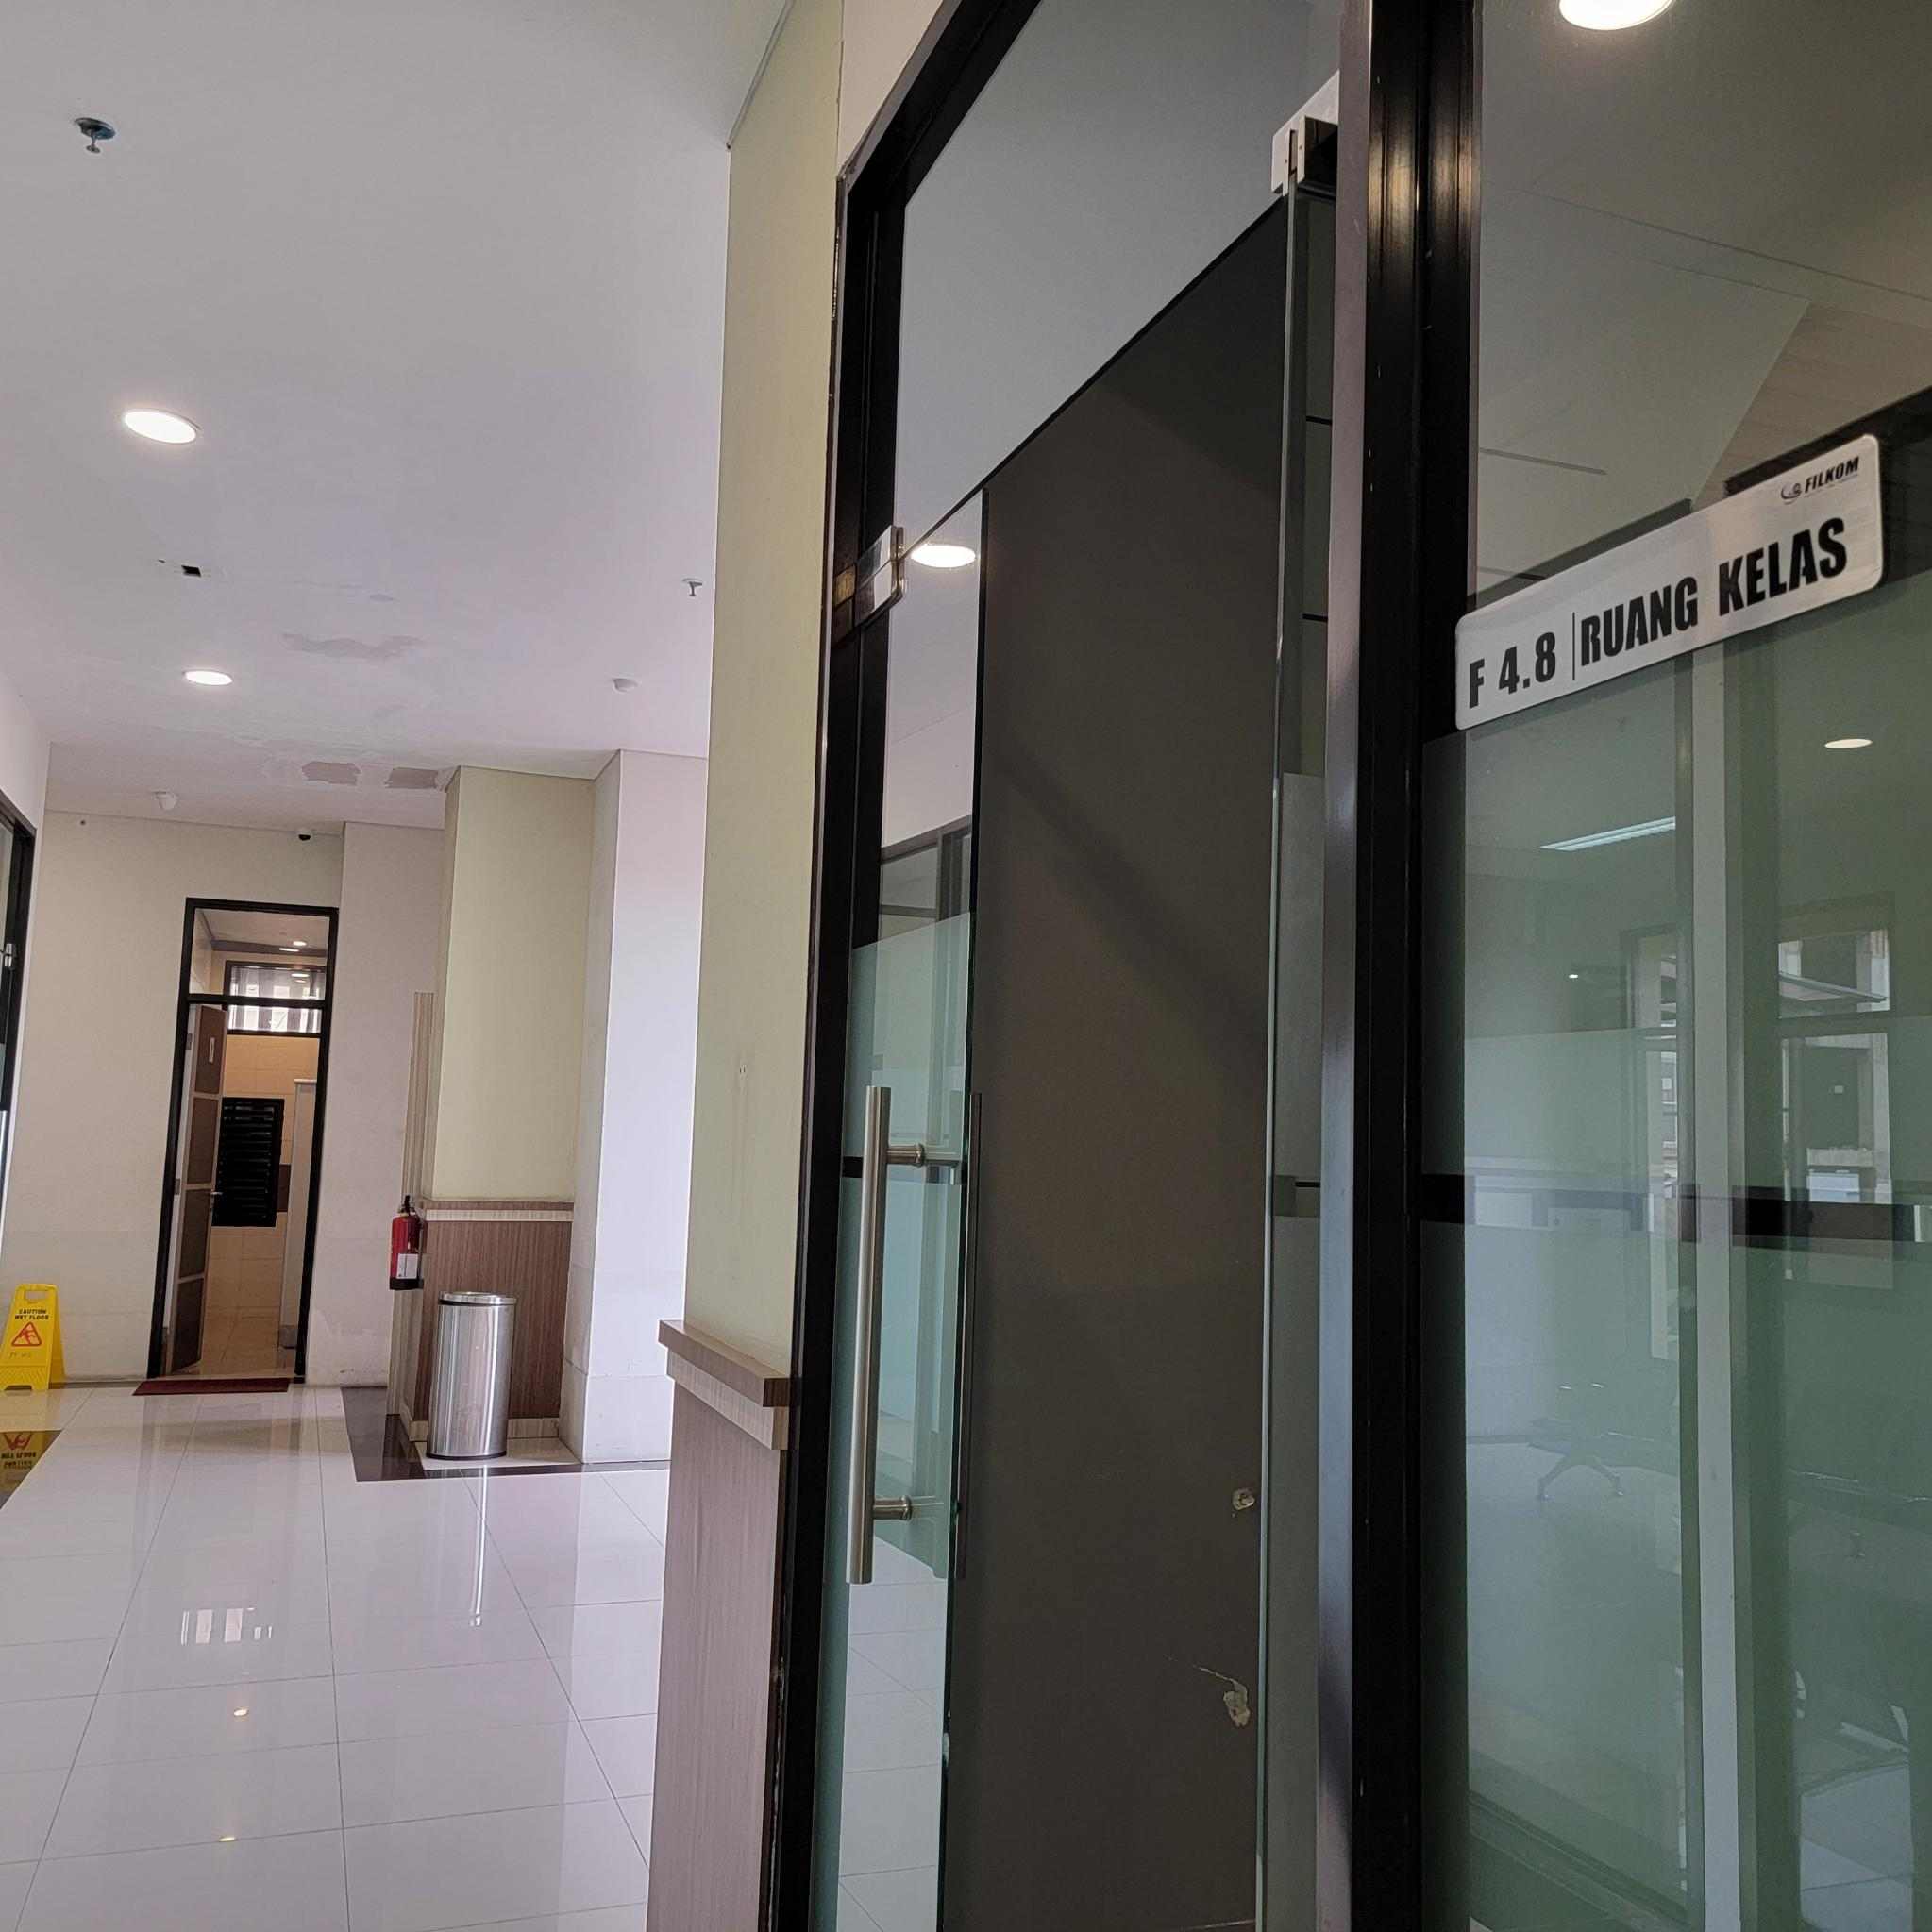plate: (1454, 433, 1884, 734)
